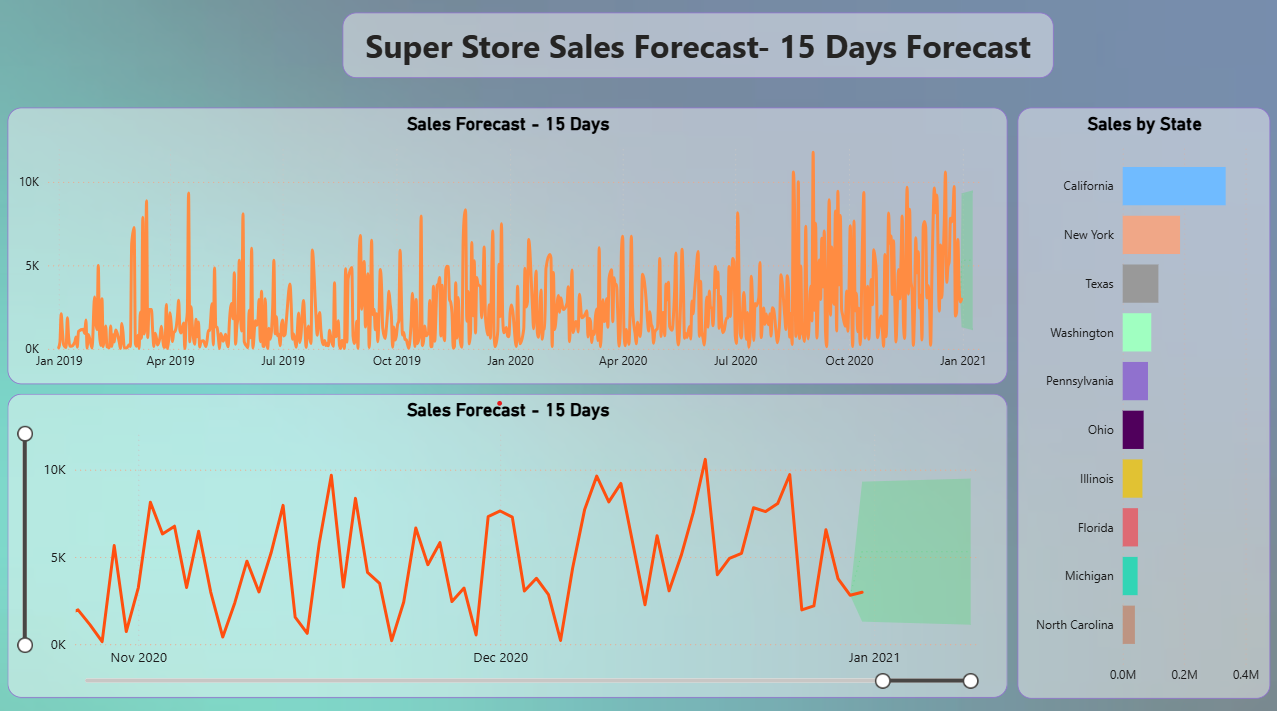

The dashboard page shown, as its layout file describes it:
{"tool":"powerbi","page":{"name":"Page 2","canvas":[1280,720],"ordinal":1},"visuals":[{"type":"lineChart","title":"Sales Forecast - 15 Days","fields":{"Y":["Sum(Superstore_Sales.Sales)"],"Category":["Superstore_Sales.Order Date"]},"box":[7.1,394.3,1000,304.3],"z":0},{"type":"lineChart","title":"Sales Forecast - 15 Days","fields":{"Y":["Sum(Superstore_Sales.Sales)"],"Category":["Superstore_Sales.Order Date"]},"box":[7.1,107.1,1000,277.1],"z":1000},{"type":"textbox","box":[342.9,12.9,711.4,65.7],"z":3000},{"type":"clusteredBarChart","title":"Sales by State","fields":{"Category":["Superstore_Sales.State"],"Y":["Sum(Superstore_Sales.Sales)"]},"box":[1017.1,107.1,252.9,591.4],"z":4000}]}

Visuals, with their boxes in screenshot pixels (x1, y1, x2, y2), scaled from the page's 1280x720 canvas onto the 1277x711 screenshot:
"Sales Forecast - 15 Days" lineChart: <box>7,389,1005,690</box>
"Sales Forecast - 15 Days" lineChart: <box>7,106,1005,379</box>
textbox: <box>342,13,1052,78</box>
"Sales by State" clusteredBarChart: <box>1015,106,1267,690</box>
